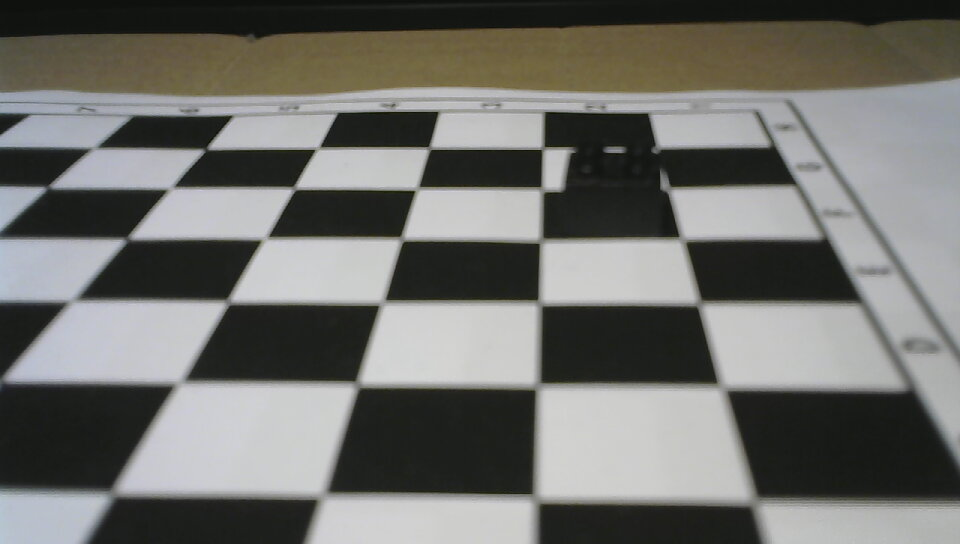bp: (556, 134, 674, 237)
